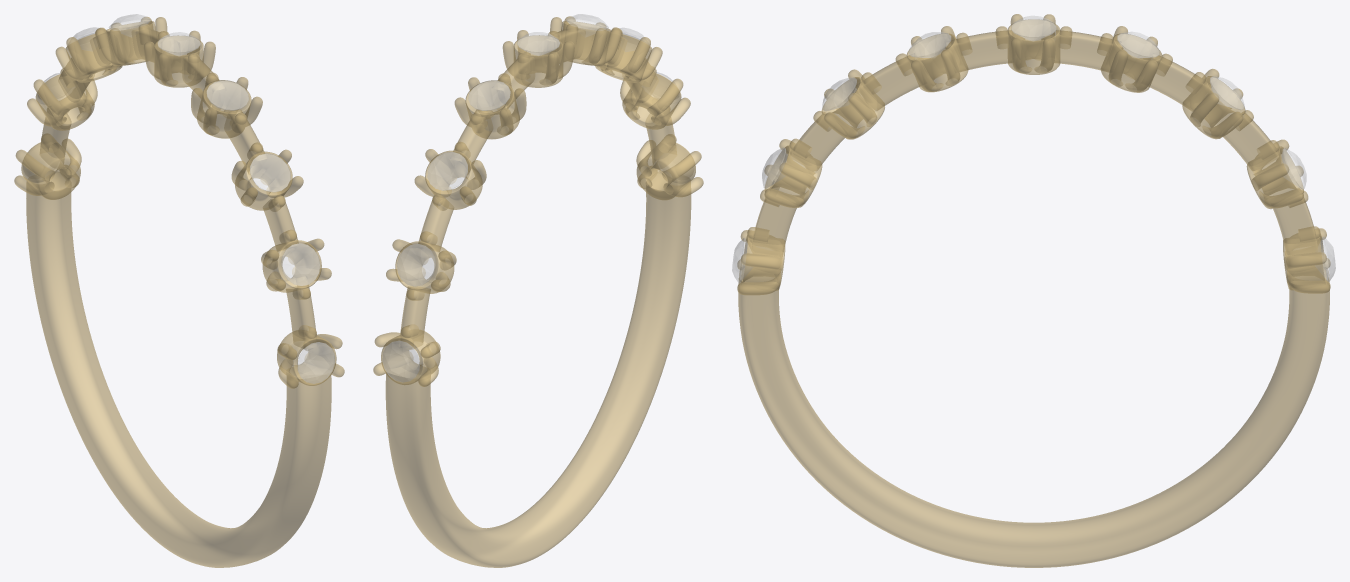
The picture shows the model from 3 angles, left to right: view 1: azimuth 30°, elevation 25°; view 2: azimuth 150°, elevation 25°; view 3: azimuth 270°, elevation 25°; orthographic projection. The views are drawn at different scales.
Visible parts, largest first — view 1: ring, diamond3; view 2: ring, diamond3; view 3: ring, diamond3.
Boxes of the visible parts, box(x1,y1,x2,y2) form: ring: box(14, 16, 344, 567); diamond3: box(23, 14, 334, 383); ring: box(373, 16, 703, 567); diamond3: box(382, 14, 693, 382); ring: box(737, 14, 1330, 567); diamond3: box(732, 16, 1335, 282).
Bounding box in the file's own units: 0.265 × 2.3 × 2.32.
